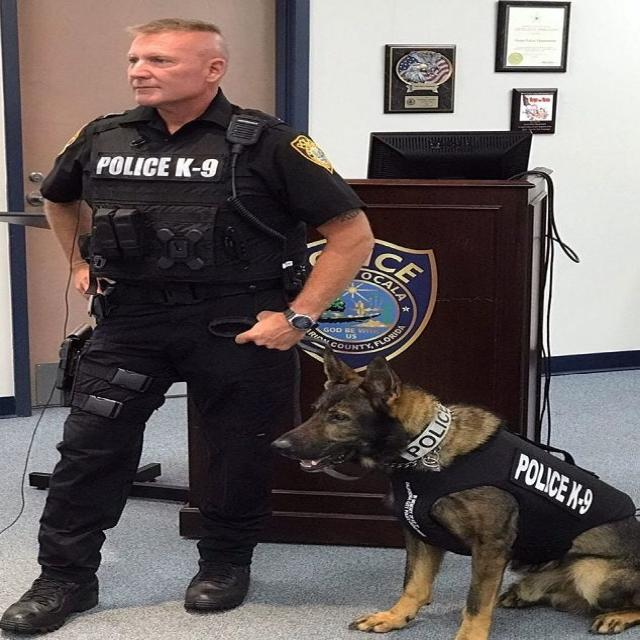police: (0, 0, 358, 640)
